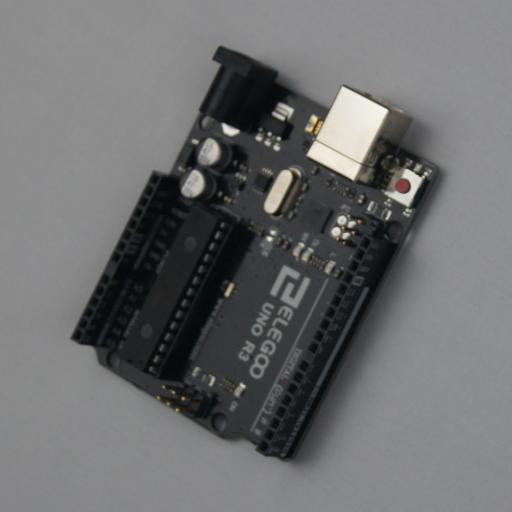Arduino Uno -Black-: (70, 46, 444, 464)
